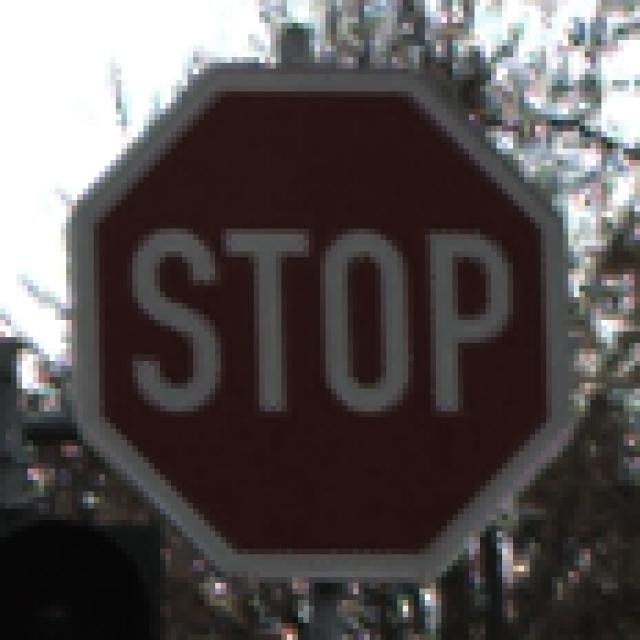STOP: (56, 53, 580, 590)
